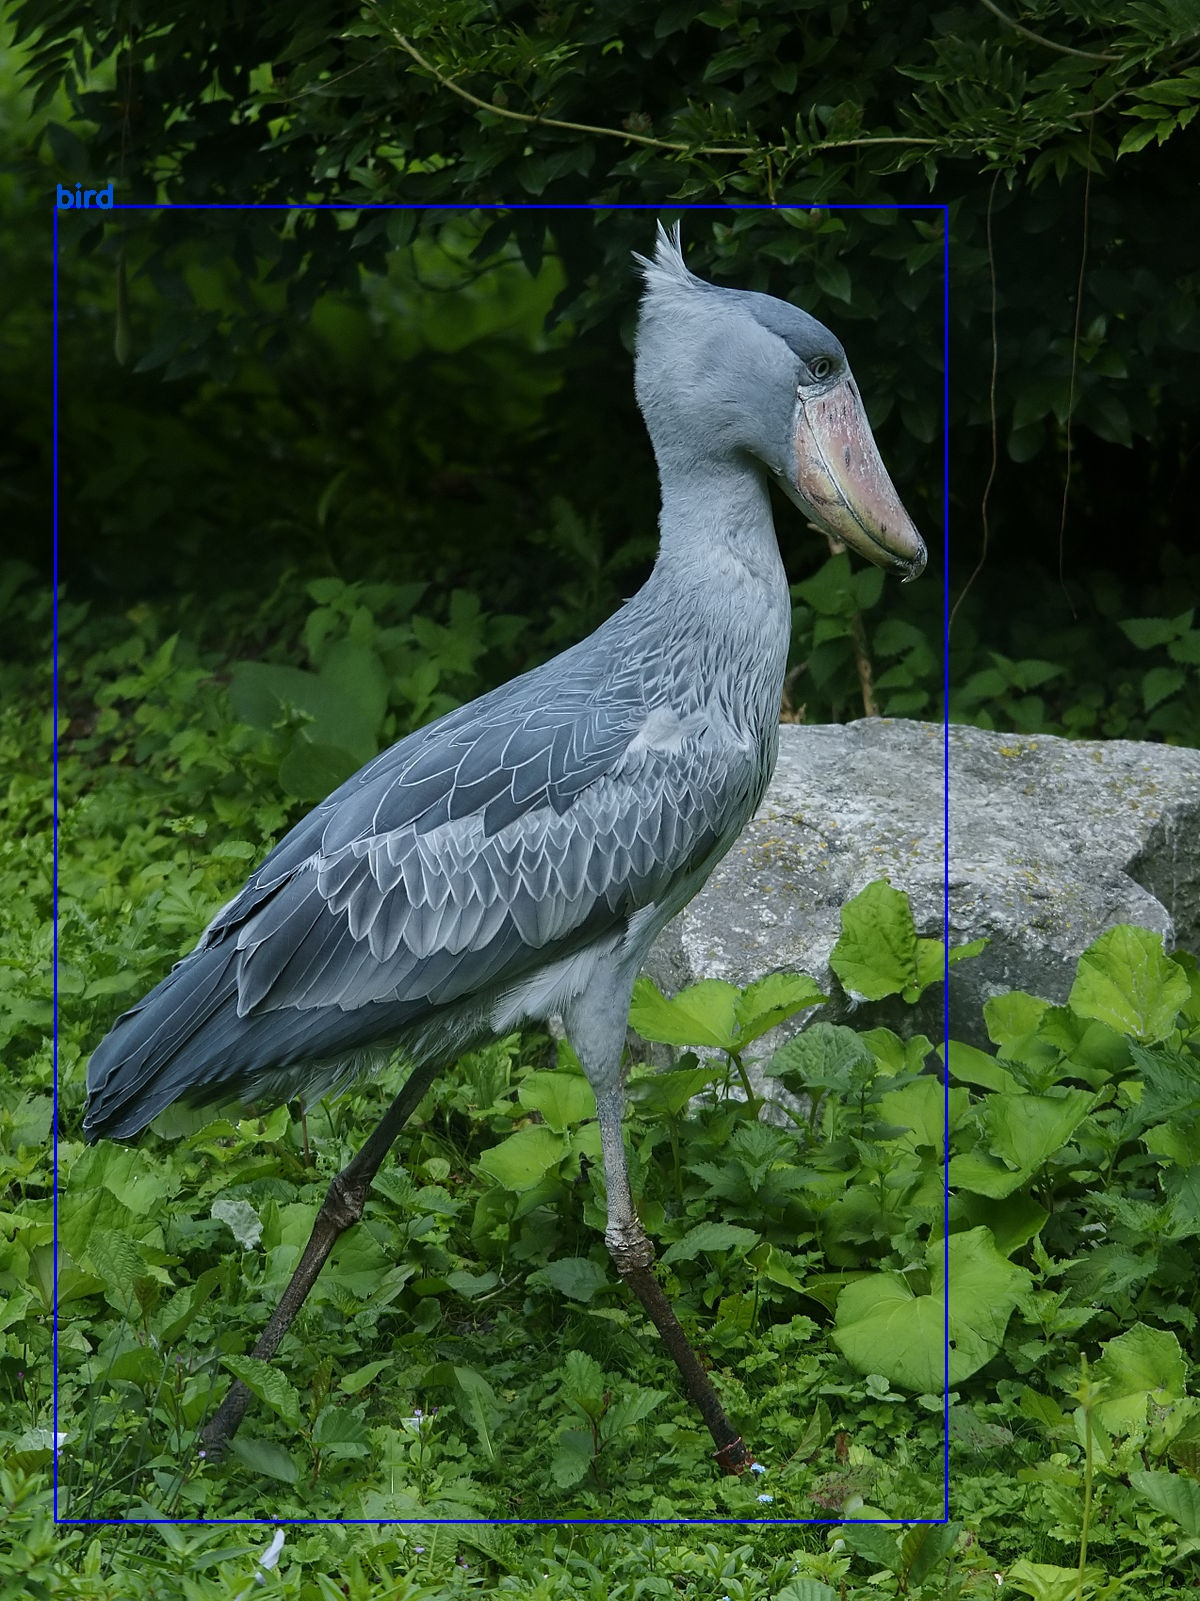bird: (54, 205, 945, 1520)
